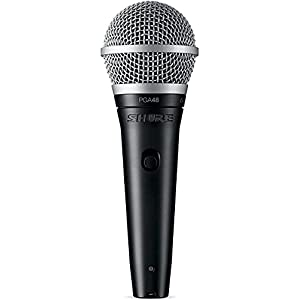microphone: (98, 1, 202, 300)
